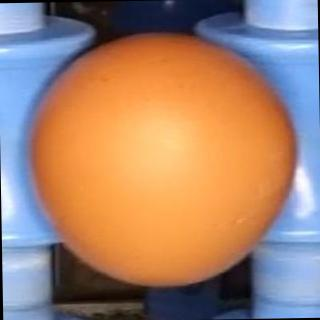Telur: (24, 24, 297, 305)
